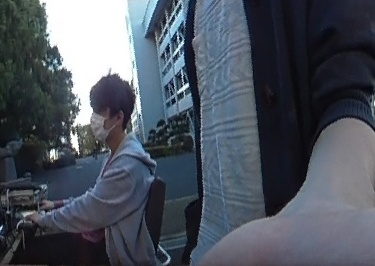person: (75, 72, 159, 266)
